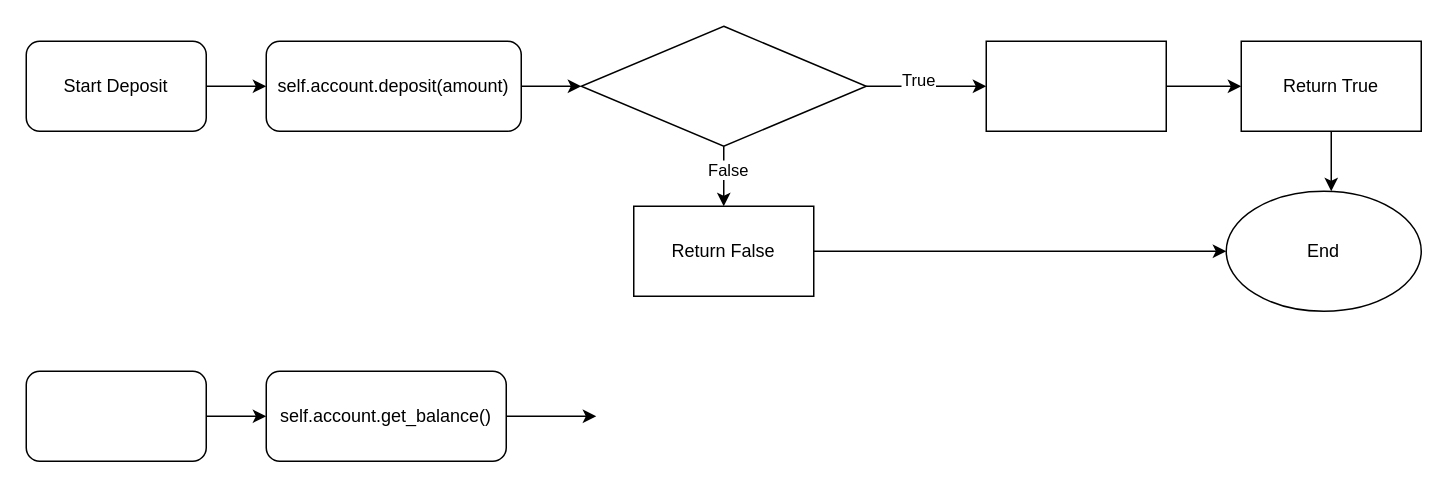
Some shapes in this 1448 by 488 pixel diagram are drawn without their labels. Here are the shapes that lost their labels. From the top down, the centre of each, then its label:
At point (723, 85): "amount>0?".
At point (1075, 85): "balance + amount".
At point (115, 415): "Balance Begin".
